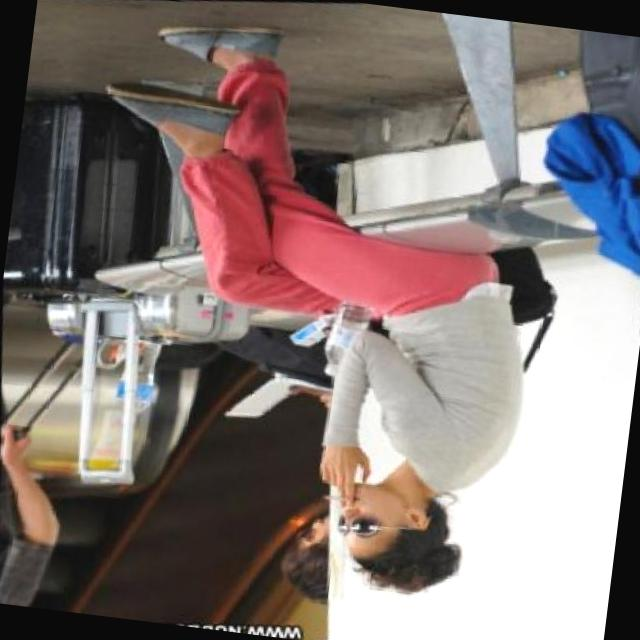smoke: (312, 440, 384, 505)
